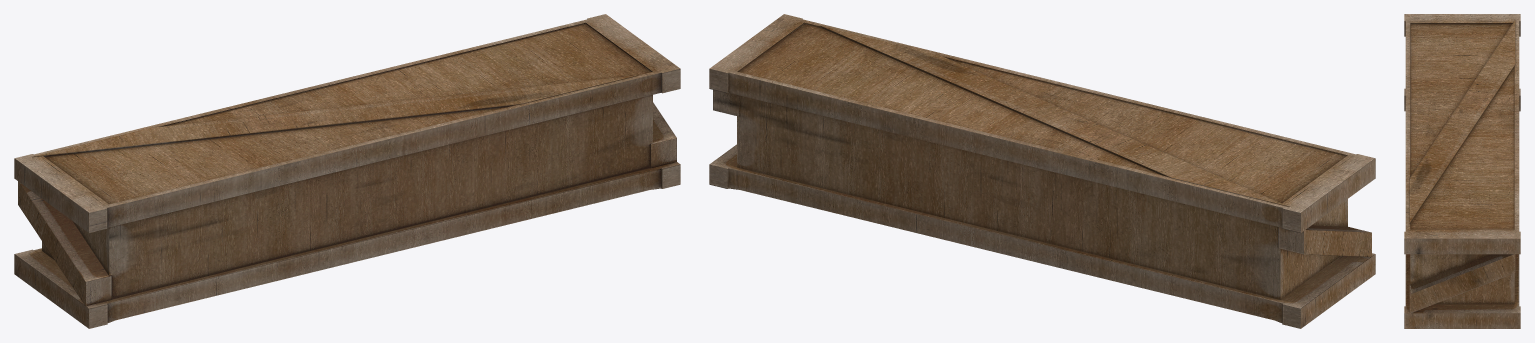
The model's file is wood_box.fbx.
The picture shows the model from 3 angles, left to right: view 1: azimuth 30°, elevation 25°; view 2: azimuth 150°, elevation 25°; view 3: azimuth 270°, elevation 25°; orthographic projection. The views are drawn at different scales.
Visible parts, largest first — view 1: wood_box; view 2: wood_box; view 3: wood_box.
Part boxes in pixels (x1,y1,x2,y2): wood_box: (14, 14, 680, 328); wood_box: (709, 14, 1375, 328); wood_box: (1404, 14, 1520, 328).
Bounding box in the file's own units: 10.04 × 1.9 × 2.2.
